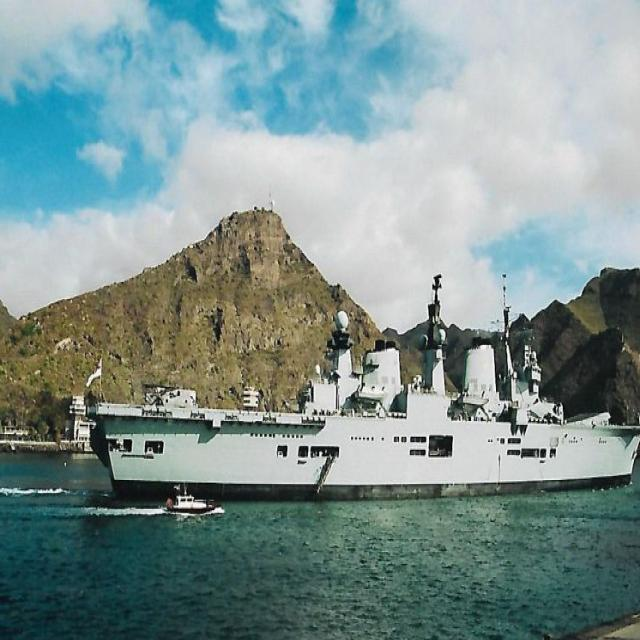Portanaves: (88, 254, 640, 513)
